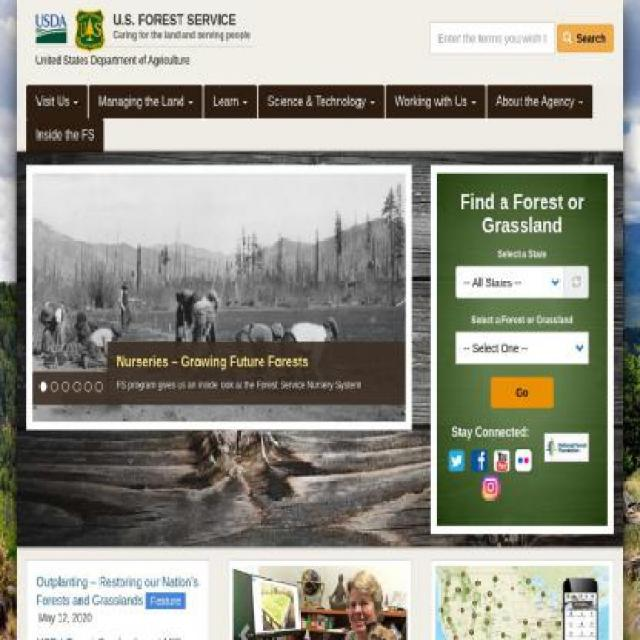button: (32, 173, 406, 422), (232, 566, 408, 640), (435, 566, 610, 640), (74, 9, 251, 53), (228, 458, 258, 639), (384, 458, 411, 639), (258, 85, 384, 118), (89, 85, 202, 118), (486, 85, 594, 118), (385, 85, 486, 118), (26, 119, 105, 152), (490, 376, 555, 409), (26, 85, 88, 118), (202, 85, 258, 118), (556, 23, 615, 52), (544, 434, 588, 461), (145, 592, 186, 610), (36, 18, 67, 32)
field: (454, 331, 588, 364), (430, 21, 555, 54), (456, 266, 564, 299)
